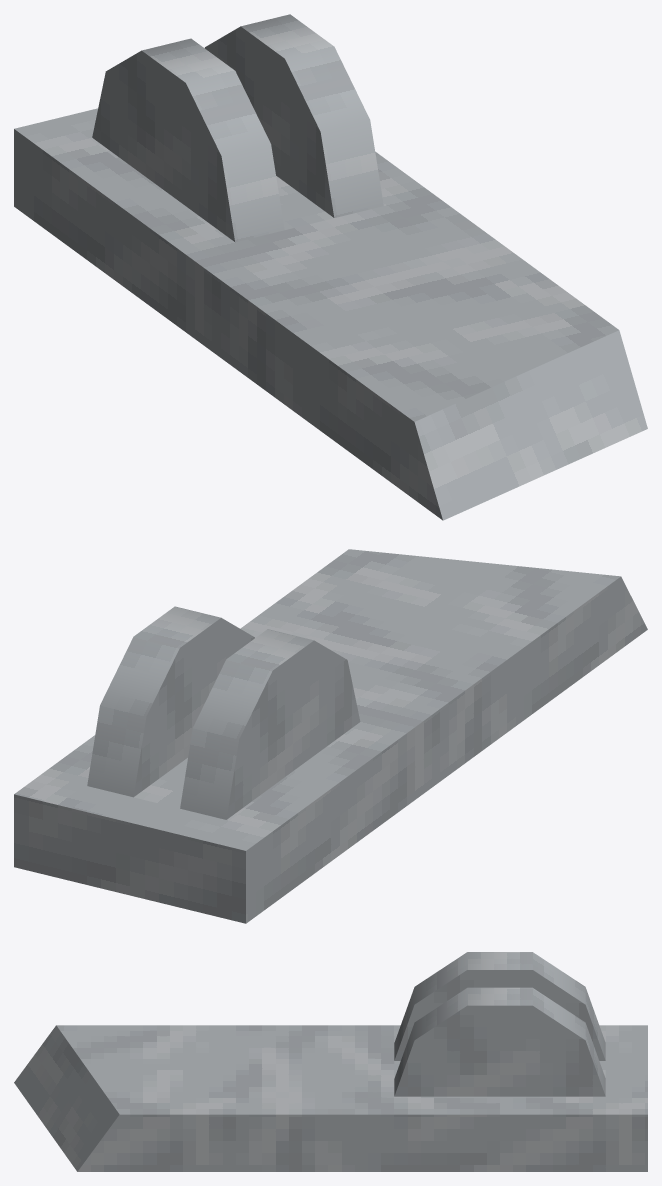
File: left.obj
3 renders of one model, top to bottom at view 1: azimuth 30°, elevation 25°; view 2: azimuth 150°, elevation 25°; view 3: azimuth 270°, elevation 25°, orthographic. The views are drawn at different scales.
Visible parts, largest first — view 1: Mesh1 Group1 Model; view 2: Mesh1 Group1 Model; view 3: Mesh1 Group1 Model.
Part boxes in pixels (x1,y1,x2,y2): Mesh1 Group1 Model: (14,14,647,520); Mesh1 Group1 Model: (14,549,647,923); Mesh1 Group1 Model: (14,952,647,1171).
Bounding box in the file's own units: 0.1 × 0.0776 × 0.3.
1 material, 1 textured.
